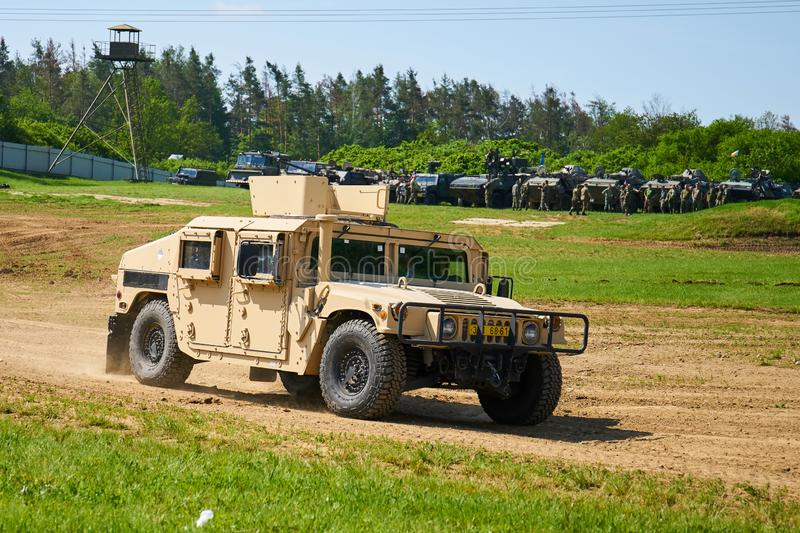hummer: (115, 216, 589, 429)
